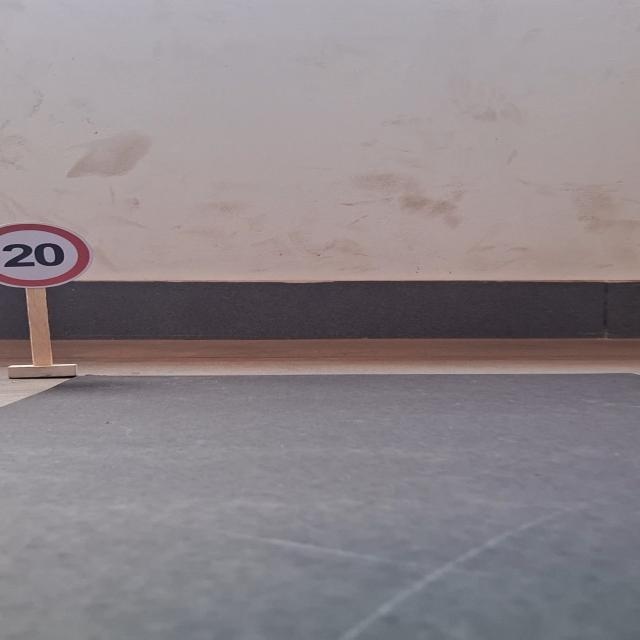Speed20: (0, 219, 100, 291)
